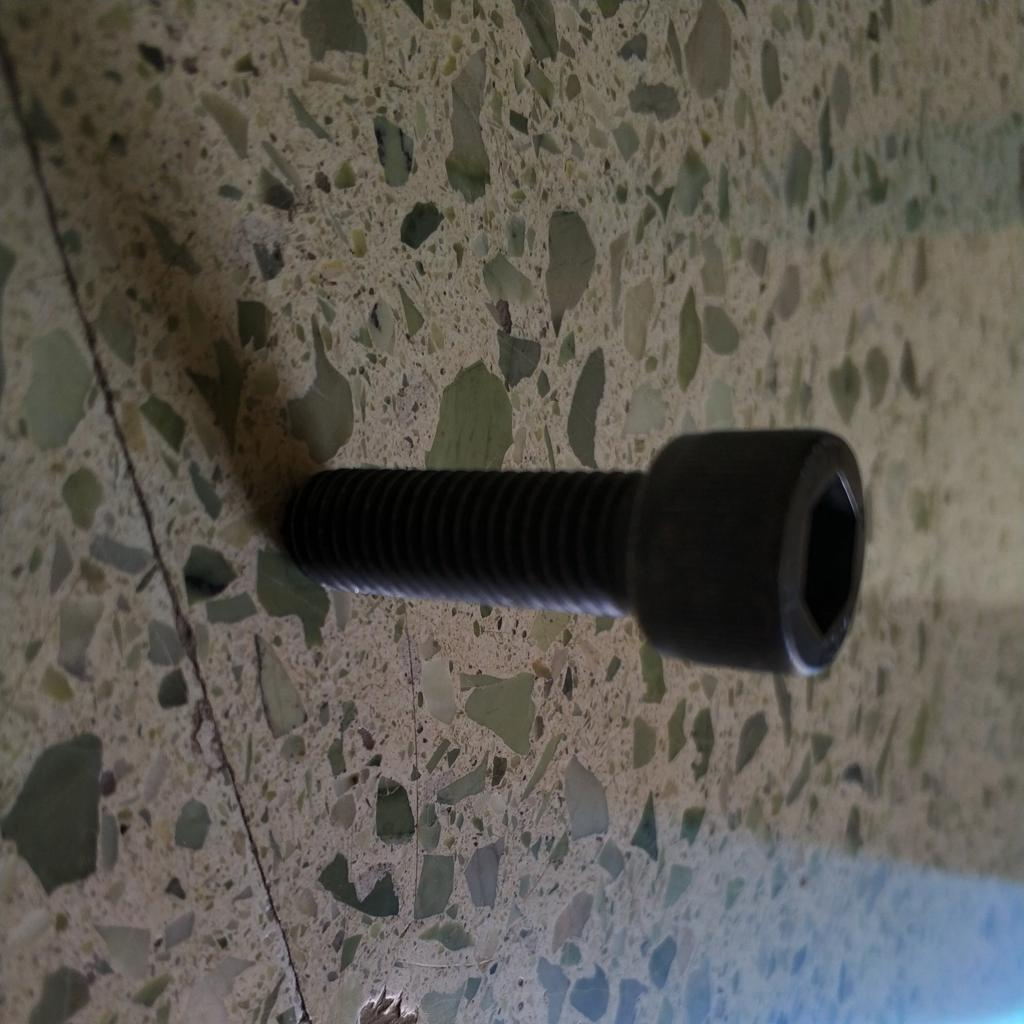screwtype1black: (300, 420, 870, 693)
